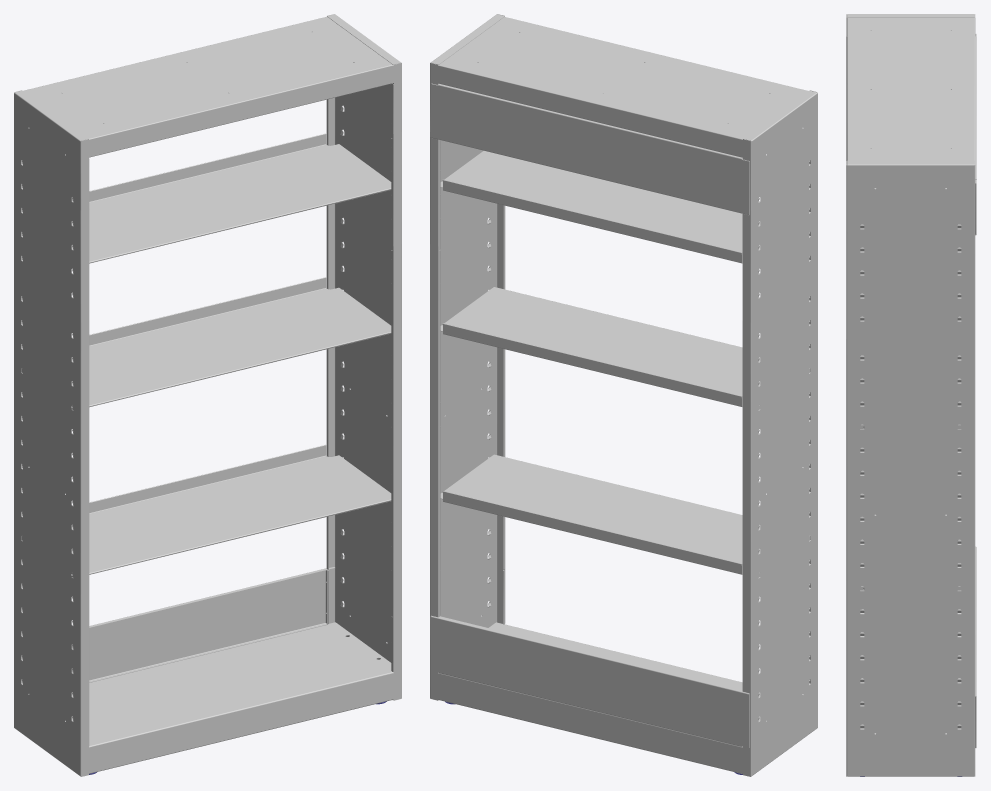
3 renders of one model, left to right at view 1: azimuth 30°, elevation 25°; view 2: azimuth 150°, elevation 25°; view 3: azimuth 270°, elevation 25°, orthographic. The views are drawn at different scales.
Parts seen in each view (by area): view 1: 5f5b0641-69d5-4eaa-9170-cd2e5dec23d6, 711c3eba-1d5c-4ffb-b8fe-c5d25c40dbf7; view 2: 5f5b0641-69d5-4eaa-9170-cd2e5dec23d6, 711c3eba-1d5c-4ffb-b8fe-c5d25c40dbf7; view 3: 5f5b0641-69d5-4eaa-9170-cd2e5dec23d6.
Part boxes in pixels (box(x1,y1,x2,y2)): 5f5b0641-69d5-4eaa-9170-cd2e5dec23d6: box(14, 14, 401, 776); 711c3eba-1d5c-4ffb-b8fe-c5d25c40dbf7: box(21, 133, 391, 577); 5f5b0641-69d5-4eaa-9170-cd2e5dec23d6: box(430, 14, 817, 776); 711c3eba-1d5c-4ffb-b8fe-c5d25c40dbf7: box(440, 150, 810, 577); 5f5b0641-69d5-4eaa-9170-cd2e5dec23d6: box(846, 14, 976, 776).
Size of the model in its own units: 0.8994 by 1.71 by 0.3275.
Materials: 2 (1 with a texture image).
